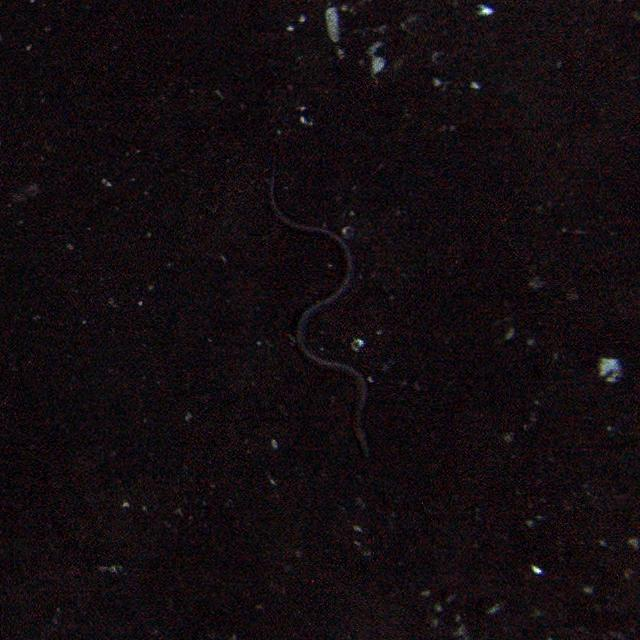eel: (265, 176, 377, 464)
